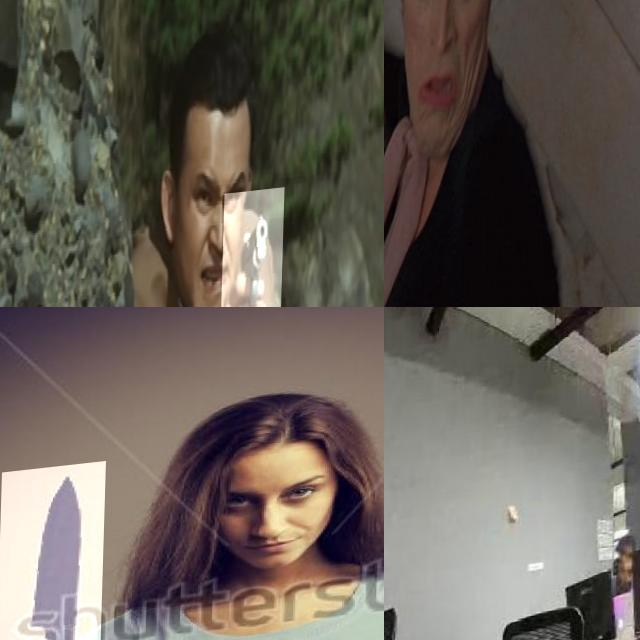-: (0, 464, 107, 640)
gun-knife-thesis - v11 Yolov5 augmented: (384, 0, 439, 151), (221, 195, 285, 307)
